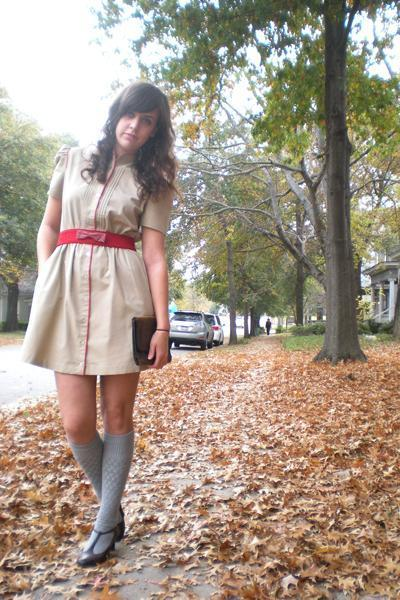bag: (132, 301, 163, 371)
dress: (25, 148, 168, 386)
shoe: (84, 516, 112, 557)
